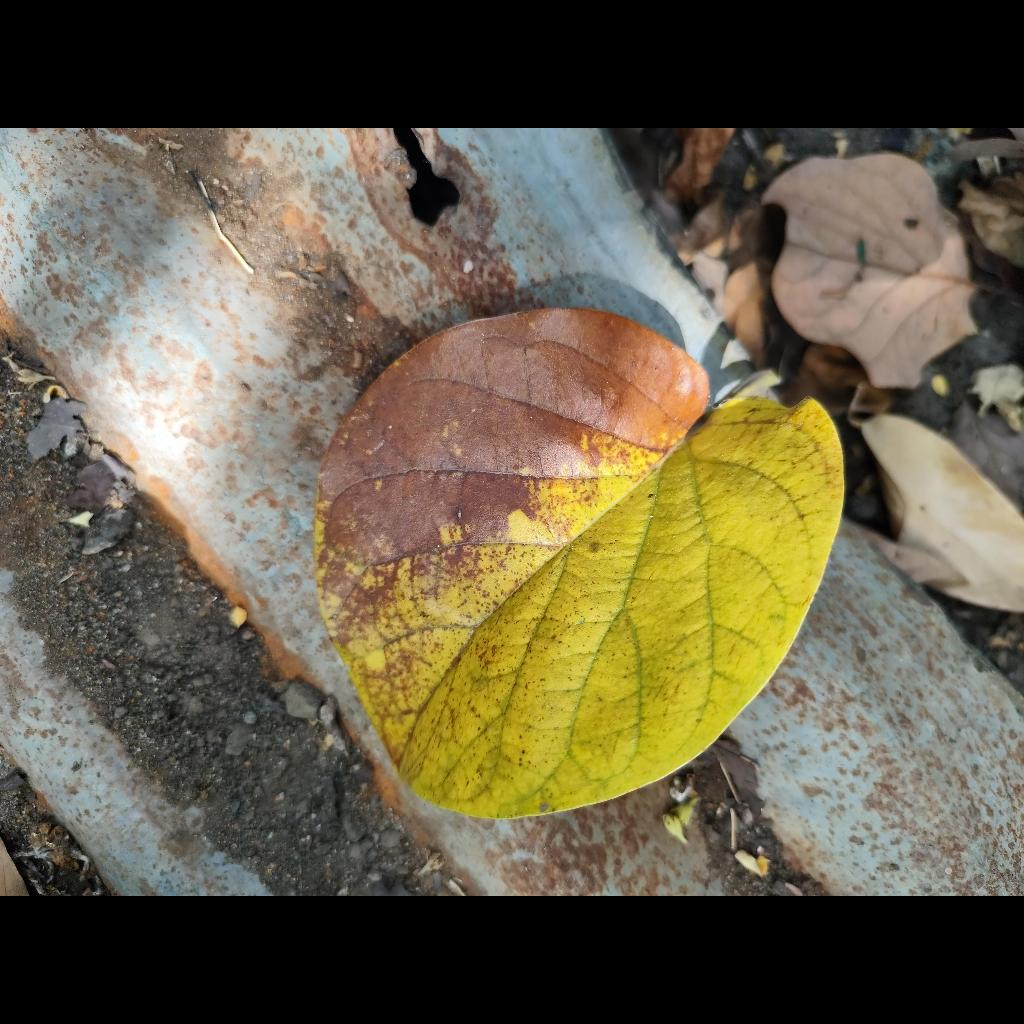deficiencia_nutricional: (314, 309, 842, 818)
